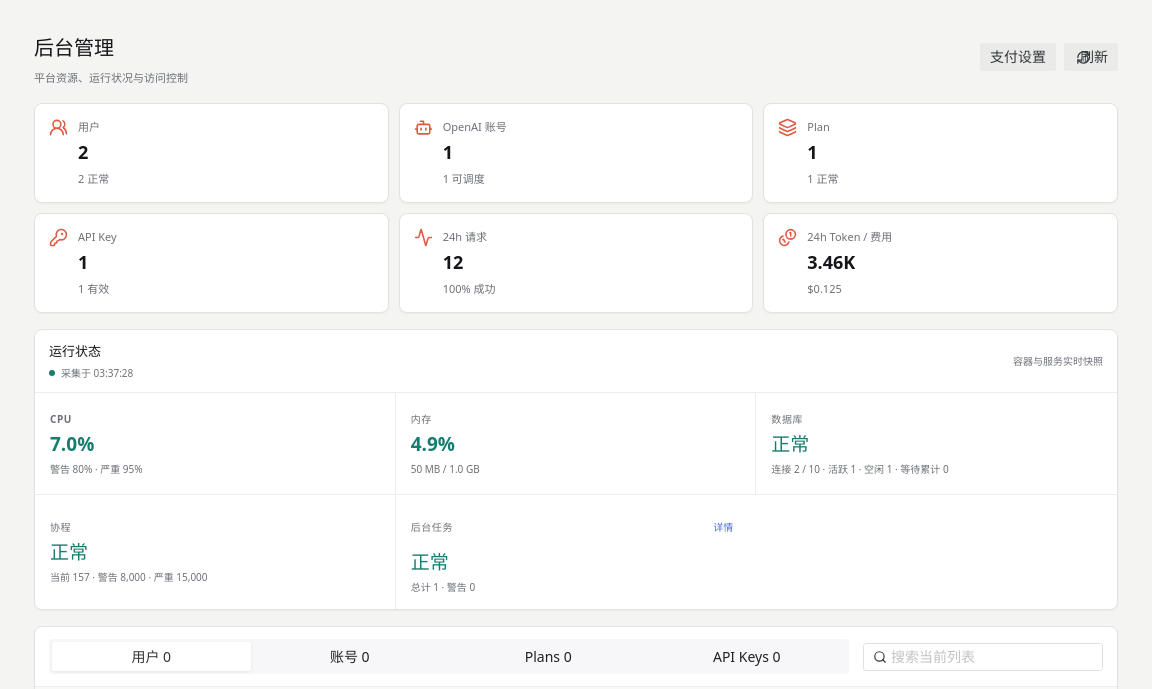
it: AdminView › shows background task execution details
Click the button "详情": (723, 527) [705,509,741,545]
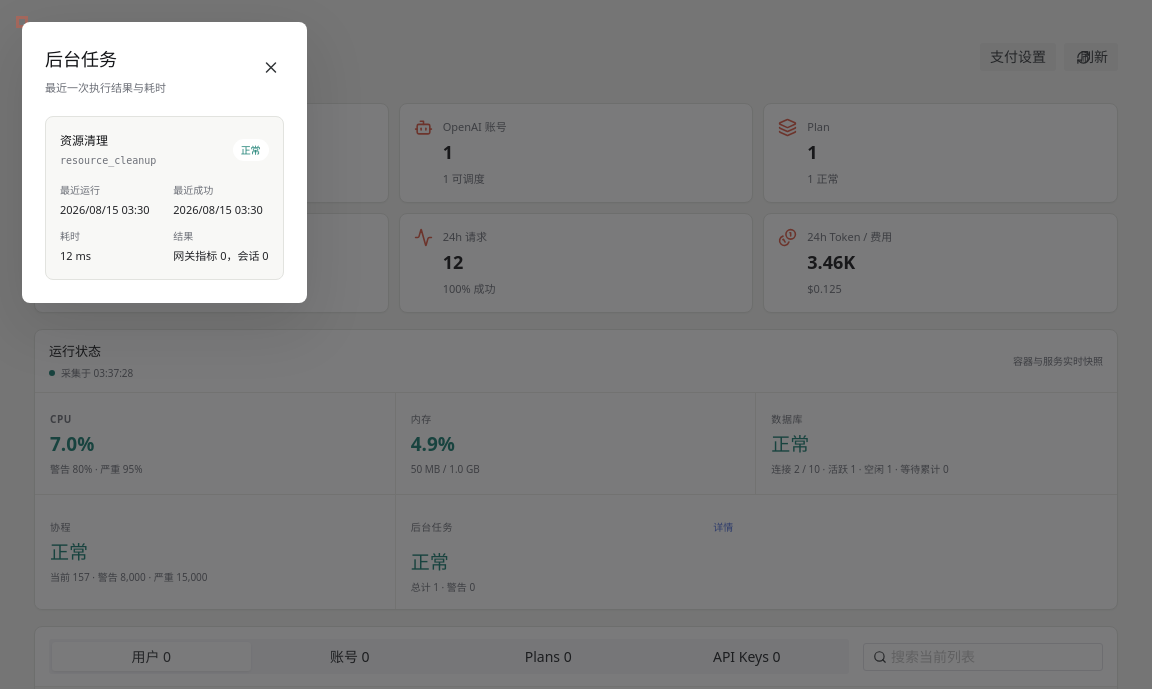
Result: the text "resource_cleanup" is shown at [60,154,156,170]
Result: the text "网关指标 0，会话 0" is shown at [173,247,269,265]
